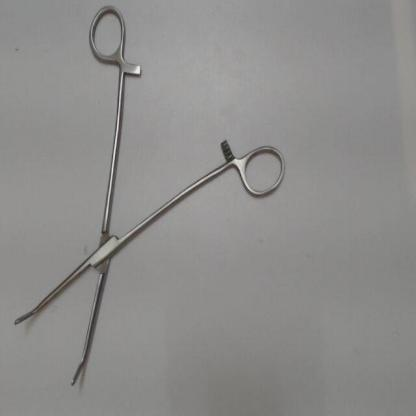Lahey Forceps: (10, 4, 289, 394)
